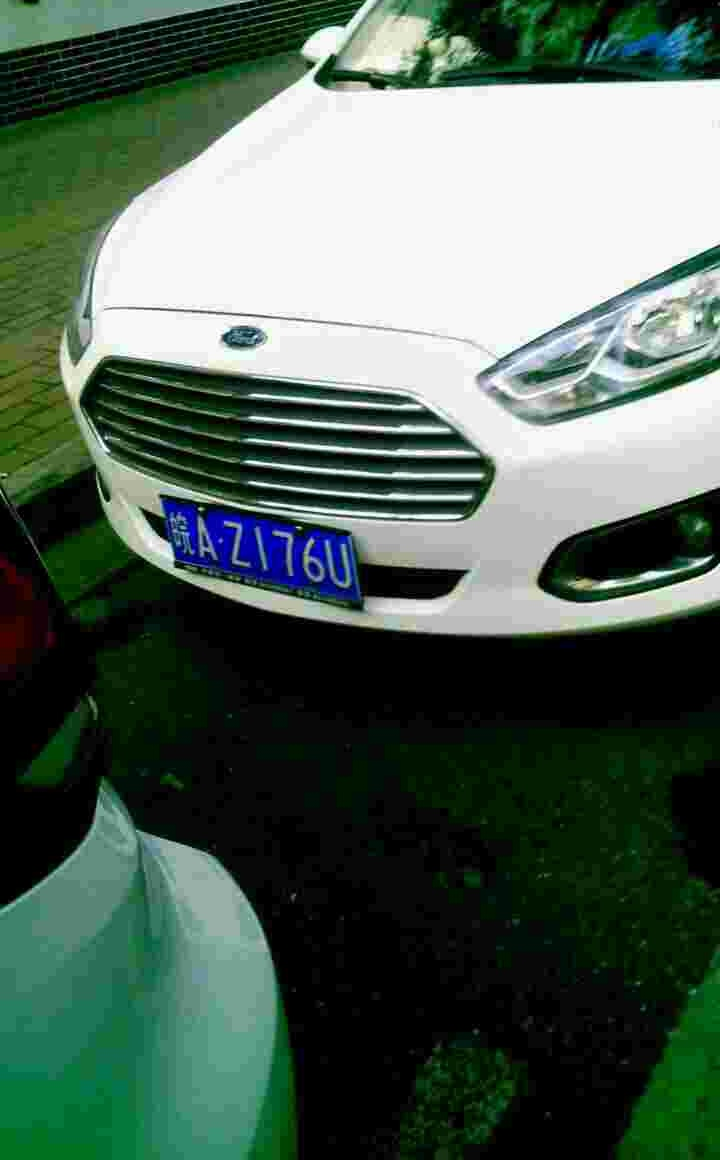license_plate: (149, 491, 365, 603)
